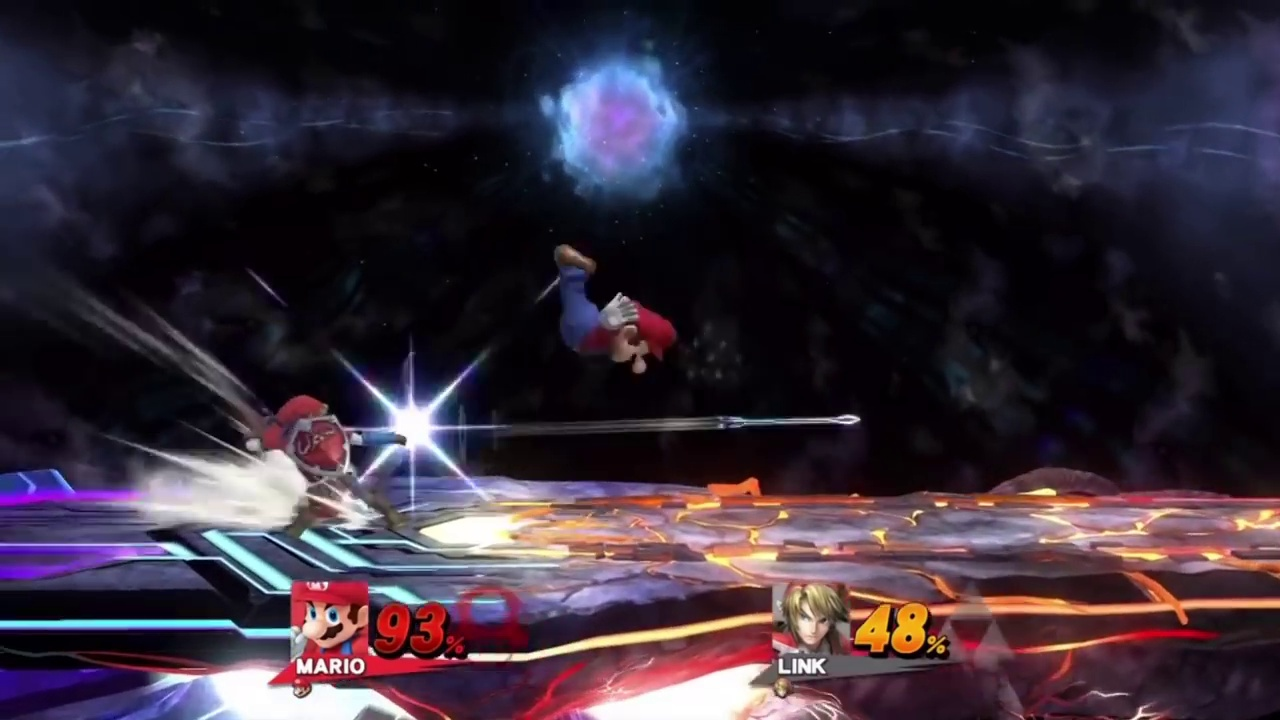Mario: (543, 245, 676, 380)
